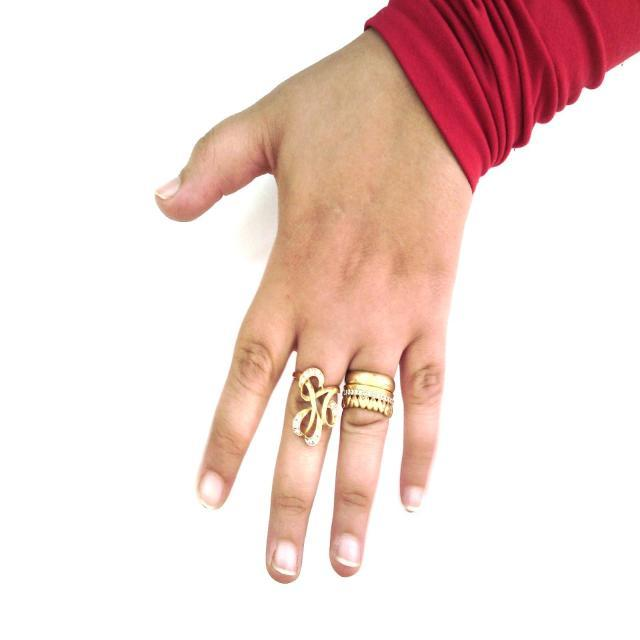Fingernail: (199, 471, 225, 509), (271, 542, 298, 576), (335, 534, 361, 567), (156, 178, 180, 199), (406, 487, 422, 512)
